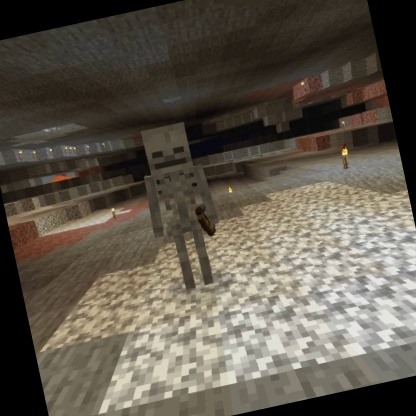skeleton: (128, 114, 235, 299)
